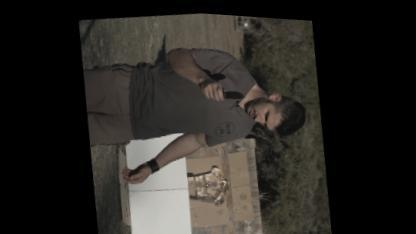knife: (204, 74, 249, 102)
